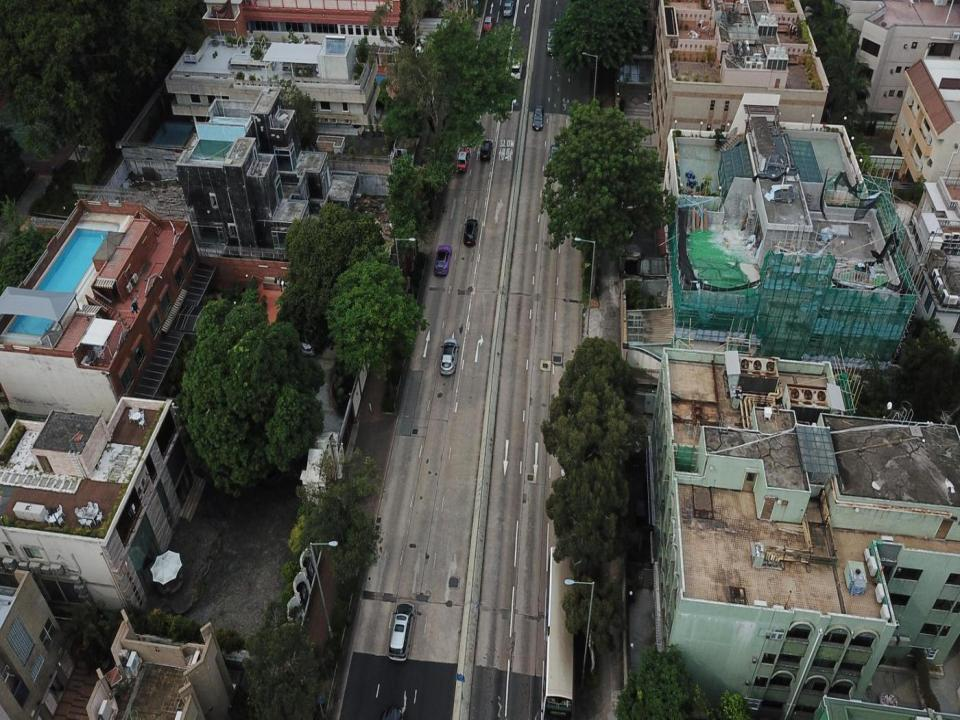bus: (541, 545, 576, 719)
car: (440, 338, 458, 377), (435, 245, 451, 276), (463, 219, 477, 247), (455, 146, 469, 174), (531, 104, 544, 133), (479, 137, 491, 162), (547, 26, 558, 53), (510, 57, 524, 78), (484, 11, 495, 33), (502, 0, 514, 19)
van: (388, 605, 414, 658)
